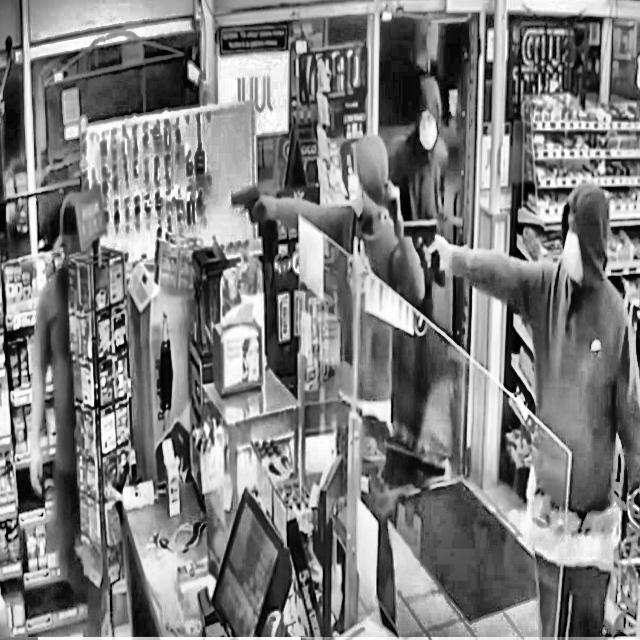pistol: (396, 212, 452, 291), (227, 179, 277, 243)
robbery: (23, 71, 639, 639)
